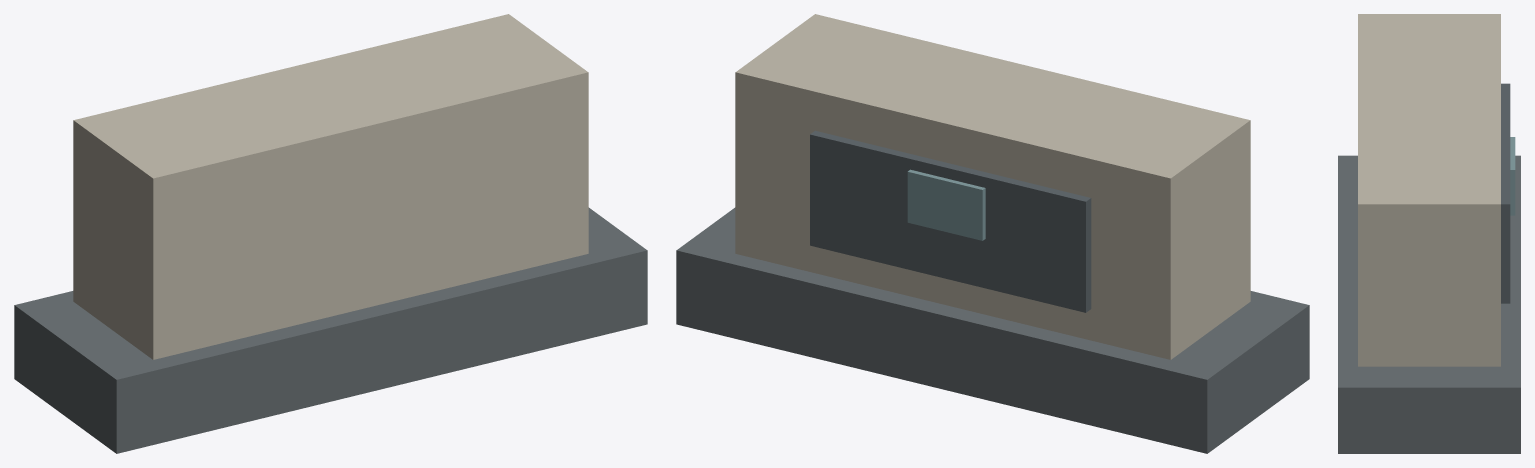
File: iz3_health_reception_01.glb
The picture shows the model from 3 angles, left to right: view 1: azimuth 30°, elevation 25°; view 2: azimuth 150°, elevation 25°; view 3: azimuth 270°, elevation 25°; orthographic projection. The views are drawn at different scales.
Visible parts, largest first — view 1: cabinet, base; view 2: cabinet, base, panel, display; view 3: cabinet, base, panel, display.
Part boxes in pixels (<box>): cabinet: <box>73,14,588,359</box>; base: <box>14,207,647,453</box>; cabinet: <box>735,14,1250,359</box>; base: <box>676,207,1309,453</box>; panel: <box>810,130,1091,312</box>; display: <box>907,169,985,240</box>; cabinet: <box>1358,14,1500,366</box>; base: <box>1338,155,1520,453</box>; panel: <box>1501,83,1510,303</box>; display: <box>1510,137,1515,215</box>.
Bounding box in the file's own units: 2.4 × 1.1 × 0.8.
